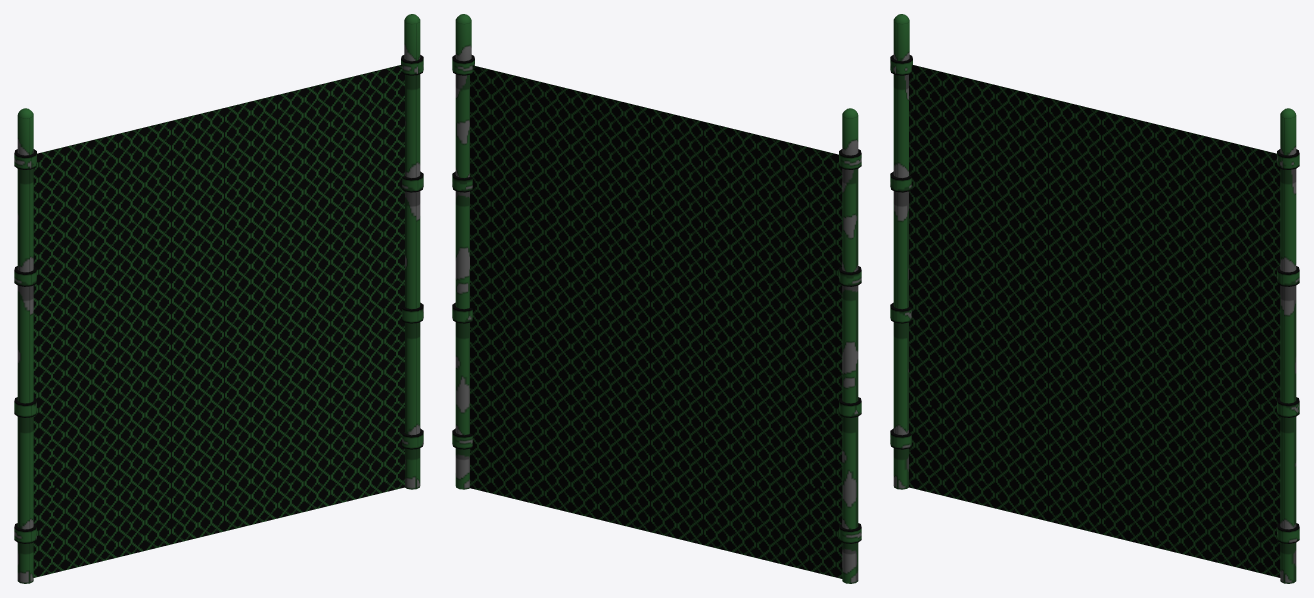
File: Prop_Valla2.fbx
The picture shows the model from 3 angles, left to right: view 1: azimuth 30°, elevation 25°; view 2: azimuth 150°, elevation 25°; view 3: azimuth 330°, elevation 25°; orthographic projection.
Parts seen in each view (by area): view 1: Prop_Valla_Petita; view 2: Prop_Valla_Petita; view 3: Prop_Valla_Petita.
Boxes of the visible parts, <box> form: Prop_Valla_Petita: <box>14,14,423,583</box>; Prop_Valla_Petita: <box>452,14,861,583</box>; Prop_Valla_Petita: <box>890,14,1299,583</box>.
Size of the model in its own units: 2.76 by 3.06 by 0.1361.
